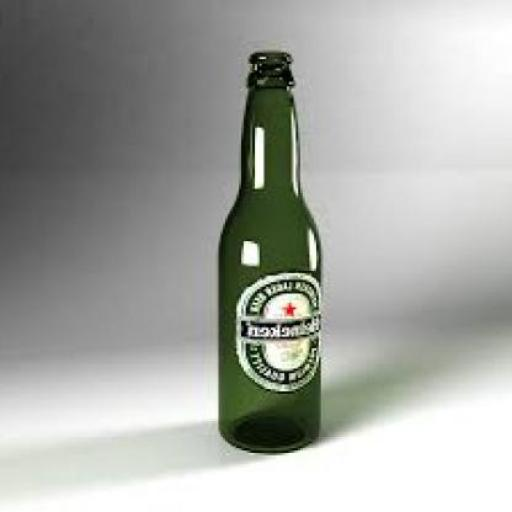glass: (216, 50, 323, 451)
